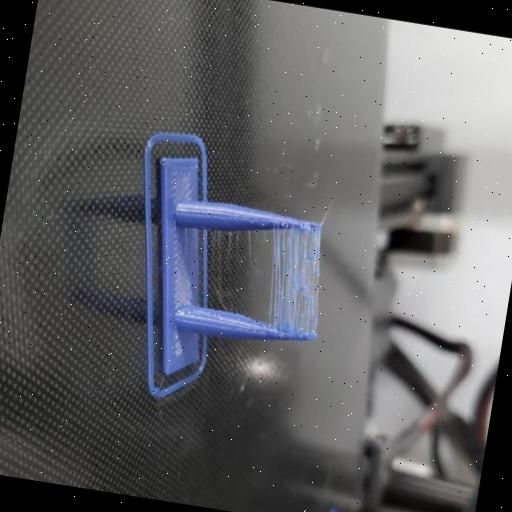stringing: (266, 232, 326, 328)
